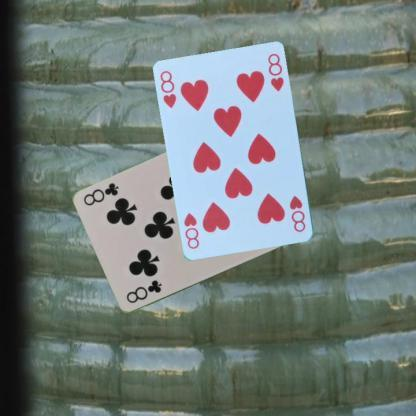8c: (123, 277, 164, 304)
8h: (158, 68, 178, 110), (288, 192, 308, 233)
